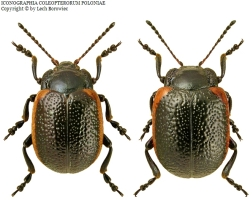Chrysolina_gypsophila: (2, 20, 130, 198), (133, 19, 250, 198)
